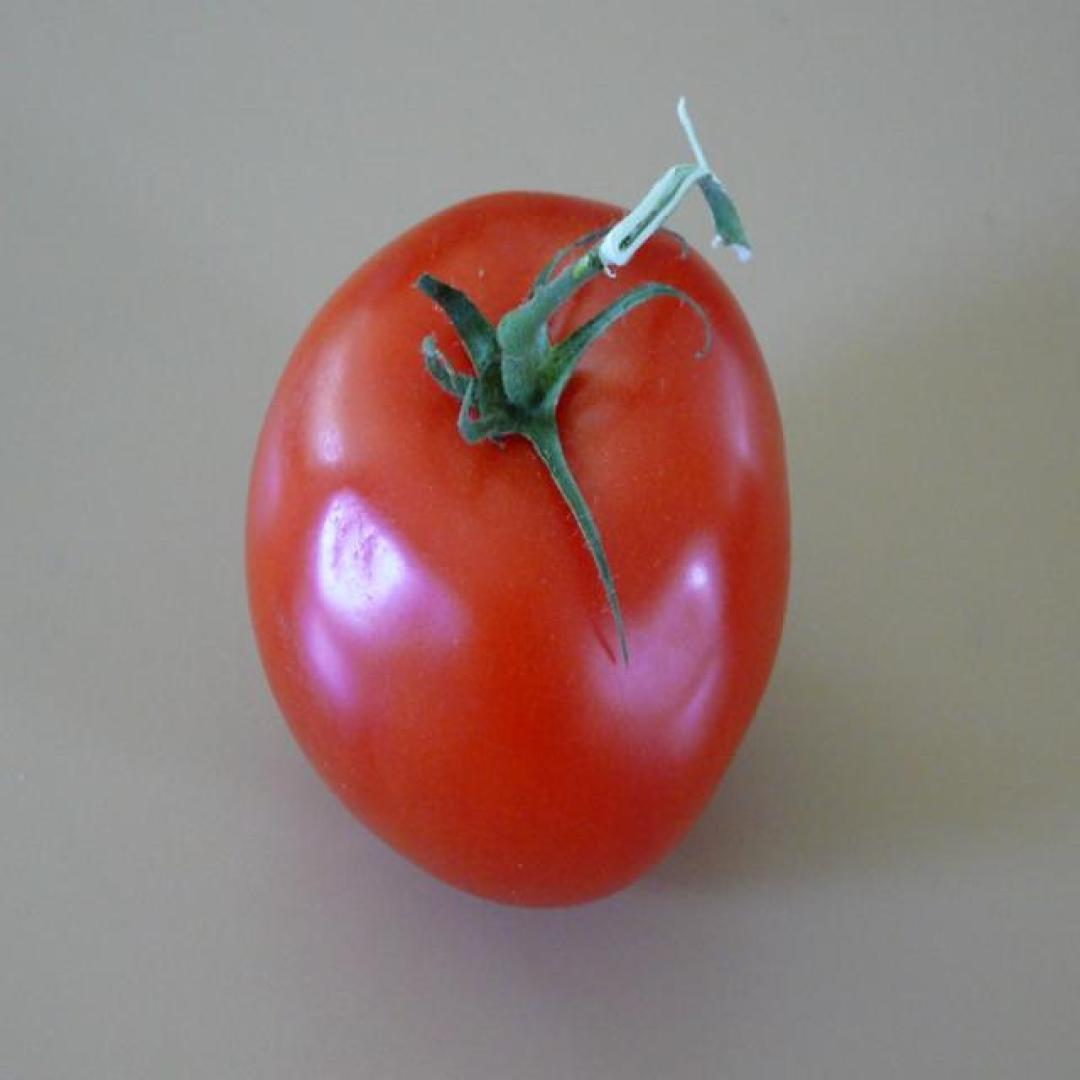matang: (245, 99, 793, 913)
